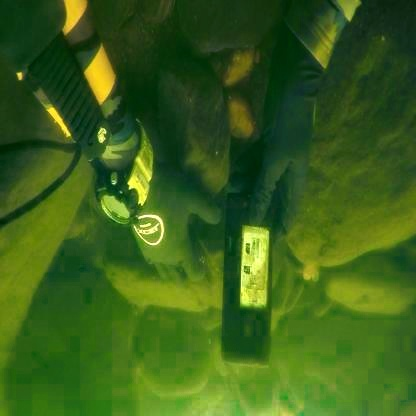cellphone: (221, 193, 274, 366)
electronics: (96, 116, 154, 228)
